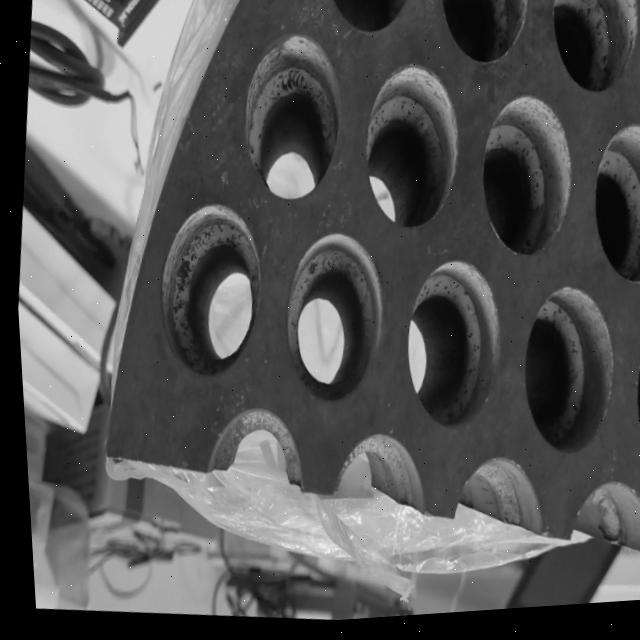Hole: (143, 199, 270, 388), (269, 231, 390, 415), (390, 258, 508, 441), (231, 30, 350, 209), (351, 62, 468, 243), (508, 287, 621, 468), (468, 94, 580, 270), (543, 0, 640, 111), (578, 127, 640, 296), (433, 0, 533, 80), (317, 0, 415, 47), (619, 319, 640, 483)
